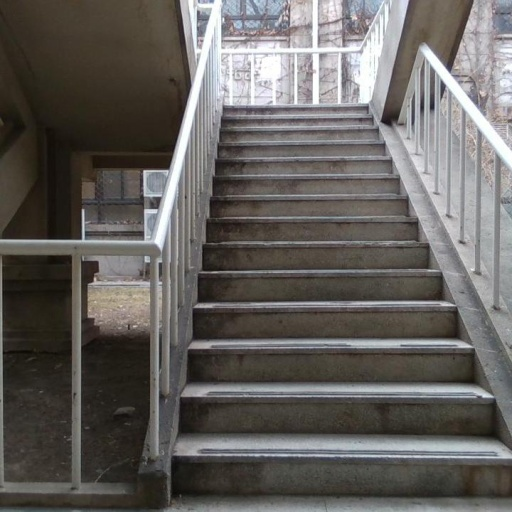Stairs: (173, 106, 512, 496)
